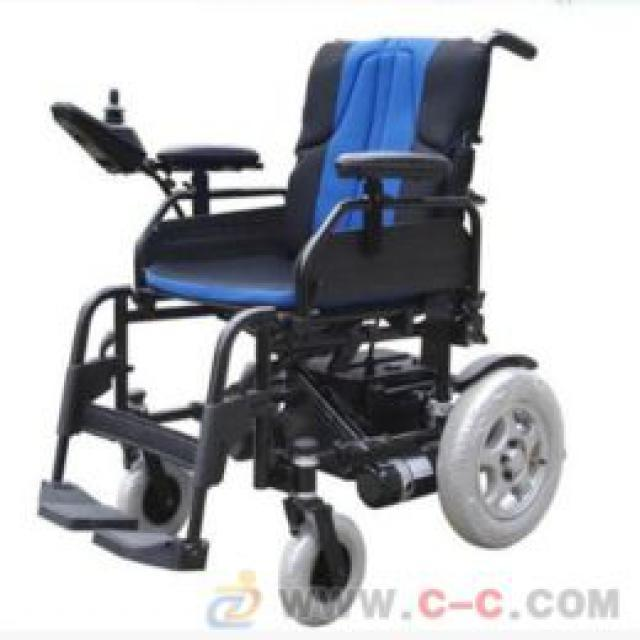wheelchair: (37, 18, 571, 622)
